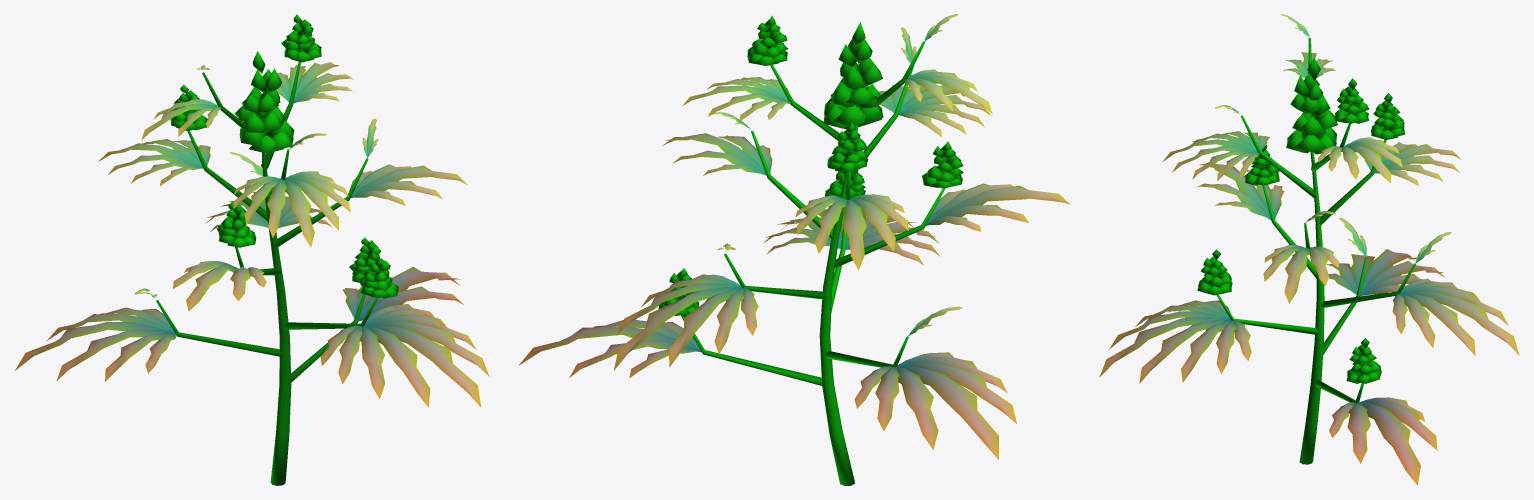
Rendered from plant_flower.glb.
3 renders of one model, left to right at view 1: azimuth 30°, elevation 25°; view 2: azimuth 150°, elevation 25°; view 3: azimuth 270°, elevation 25°, orthographic. The views are drawn at different scales.
Visible parts, largest first — view 1: Leaves, Buds, Stem; view 2: Leaves, Buds, Stem; view 3: Leaves, Buds, Stem.
Boxes of the visible parts, bbox=[...] form: Leaves: bbox=[15, 62, 489, 407]; Buds: bbox=[170, 14, 398, 298]; Stem: bbox=[156, 61, 377, 485]; Leaves: bbox=[518, 14, 1069, 459]; Buds: bbox=[658, 15, 963, 316]; Stem: bbox=[681, 41, 945, 485]; Leaves: bbox=[1099, 14, 1519, 485]; Buds: bbox=[1197, 57, 1404, 383]; Stem: bbox=[1216, 38, 1416, 464].
Size of the model in its own units: 1.15 by 1.1 by 1.03.
